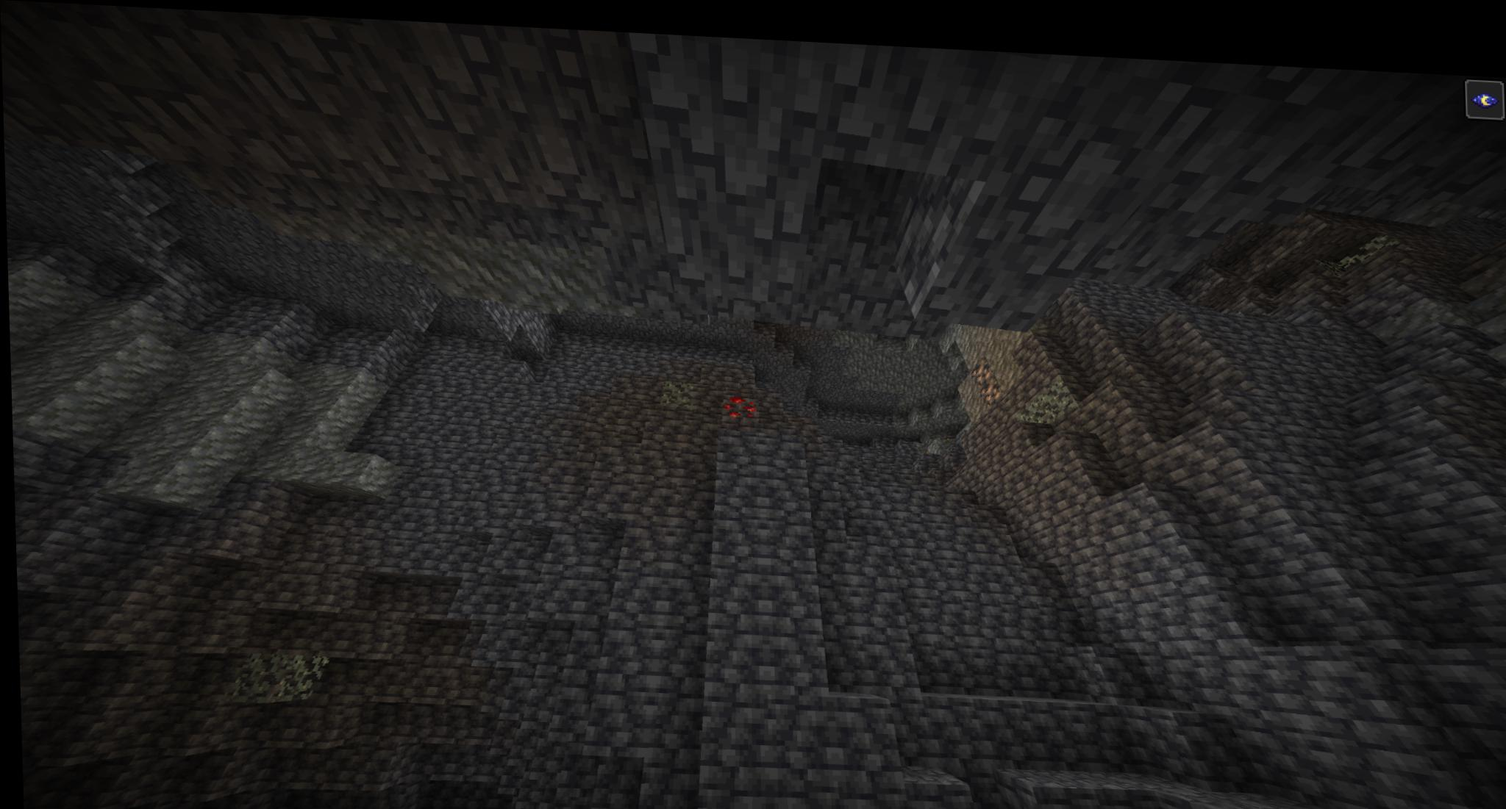redstone ore: (716, 384, 758, 417)
